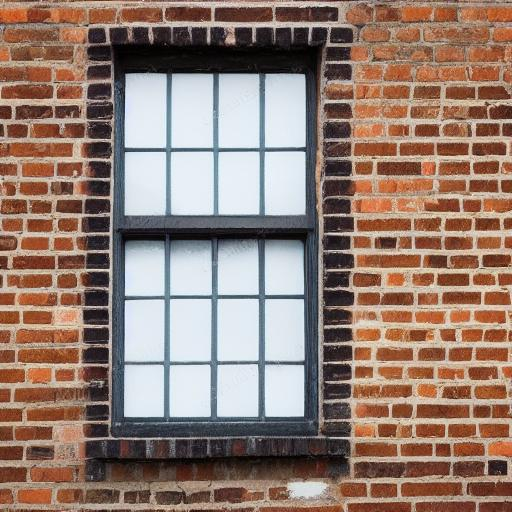Window: (86, 22, 350, 467)
